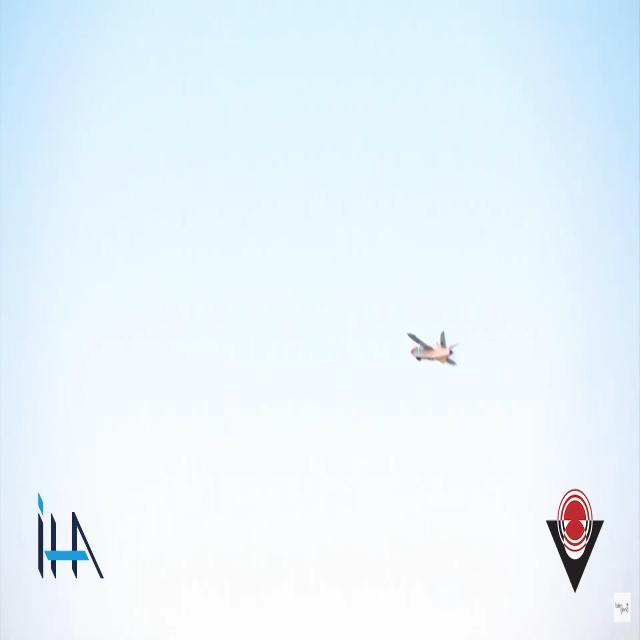iha: (405, 330, 461, 367)
